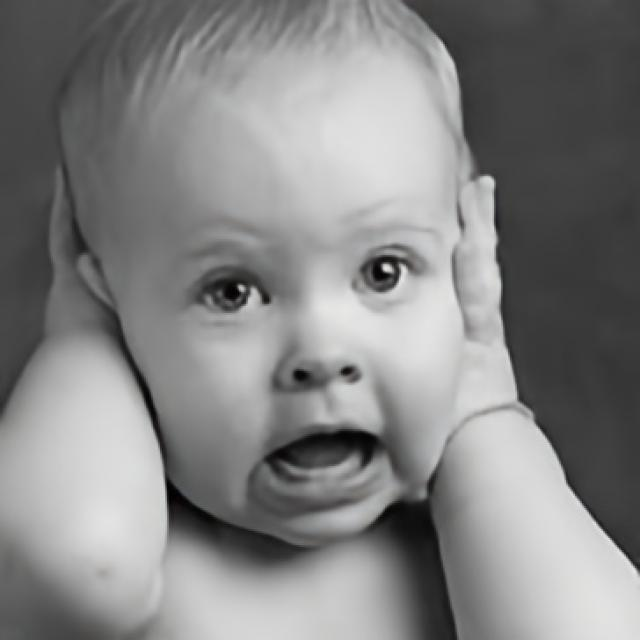fear: (55, 3, 473, 547)
